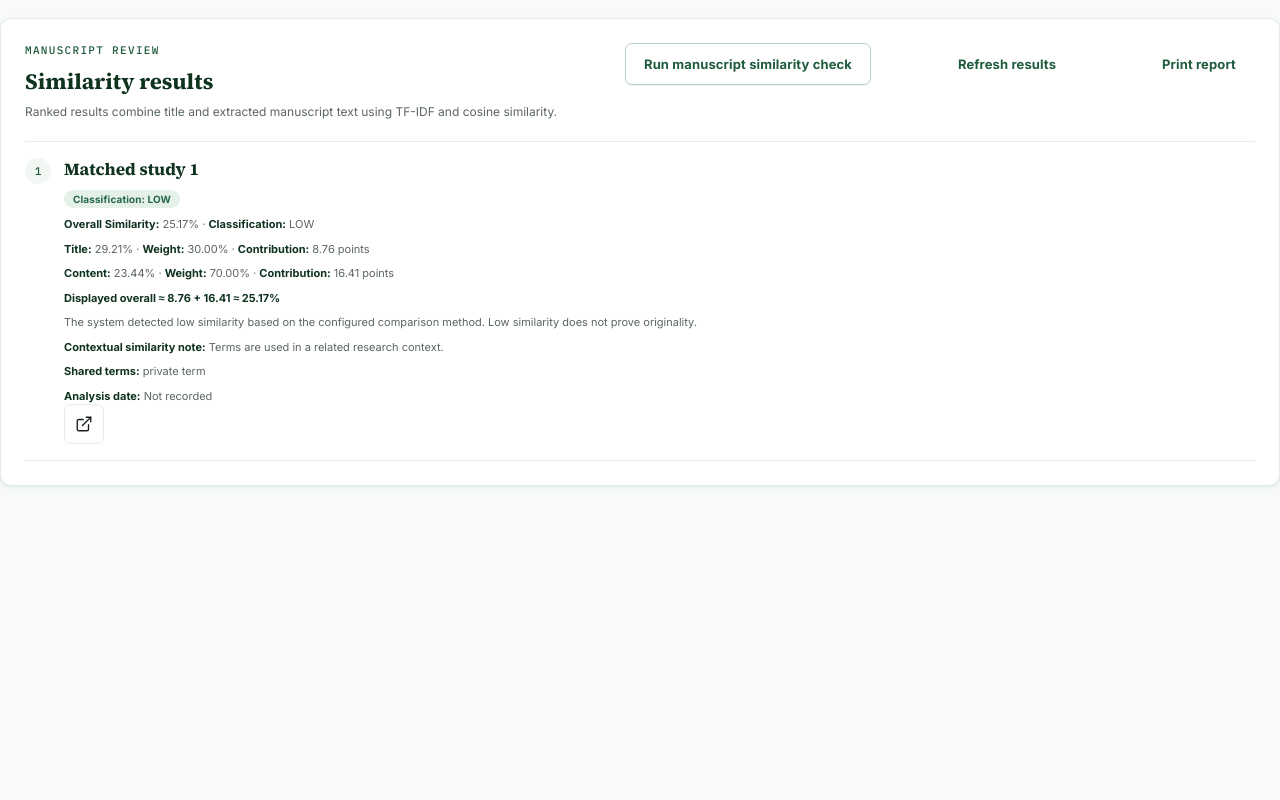
SimilarityResults › opens matched metadata in a dialog without leaving the page
Click the button named "Open metadata for Matched study 1".
click(84, 424)  # box [64,404,104,444]
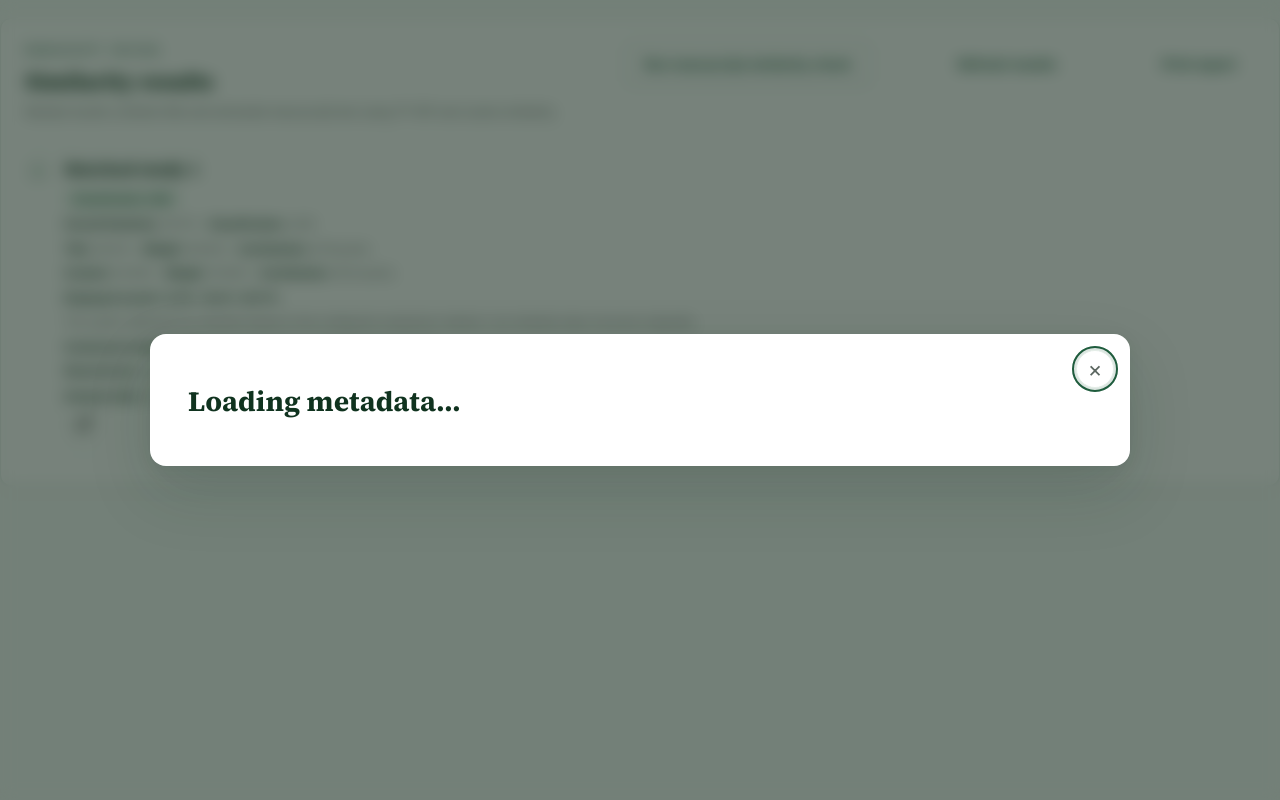
expect the dialog is shown: met, box [150,334,1130,466]
expect the heading "Loading metadata…" is shown: met, box [188,382,461,420]
